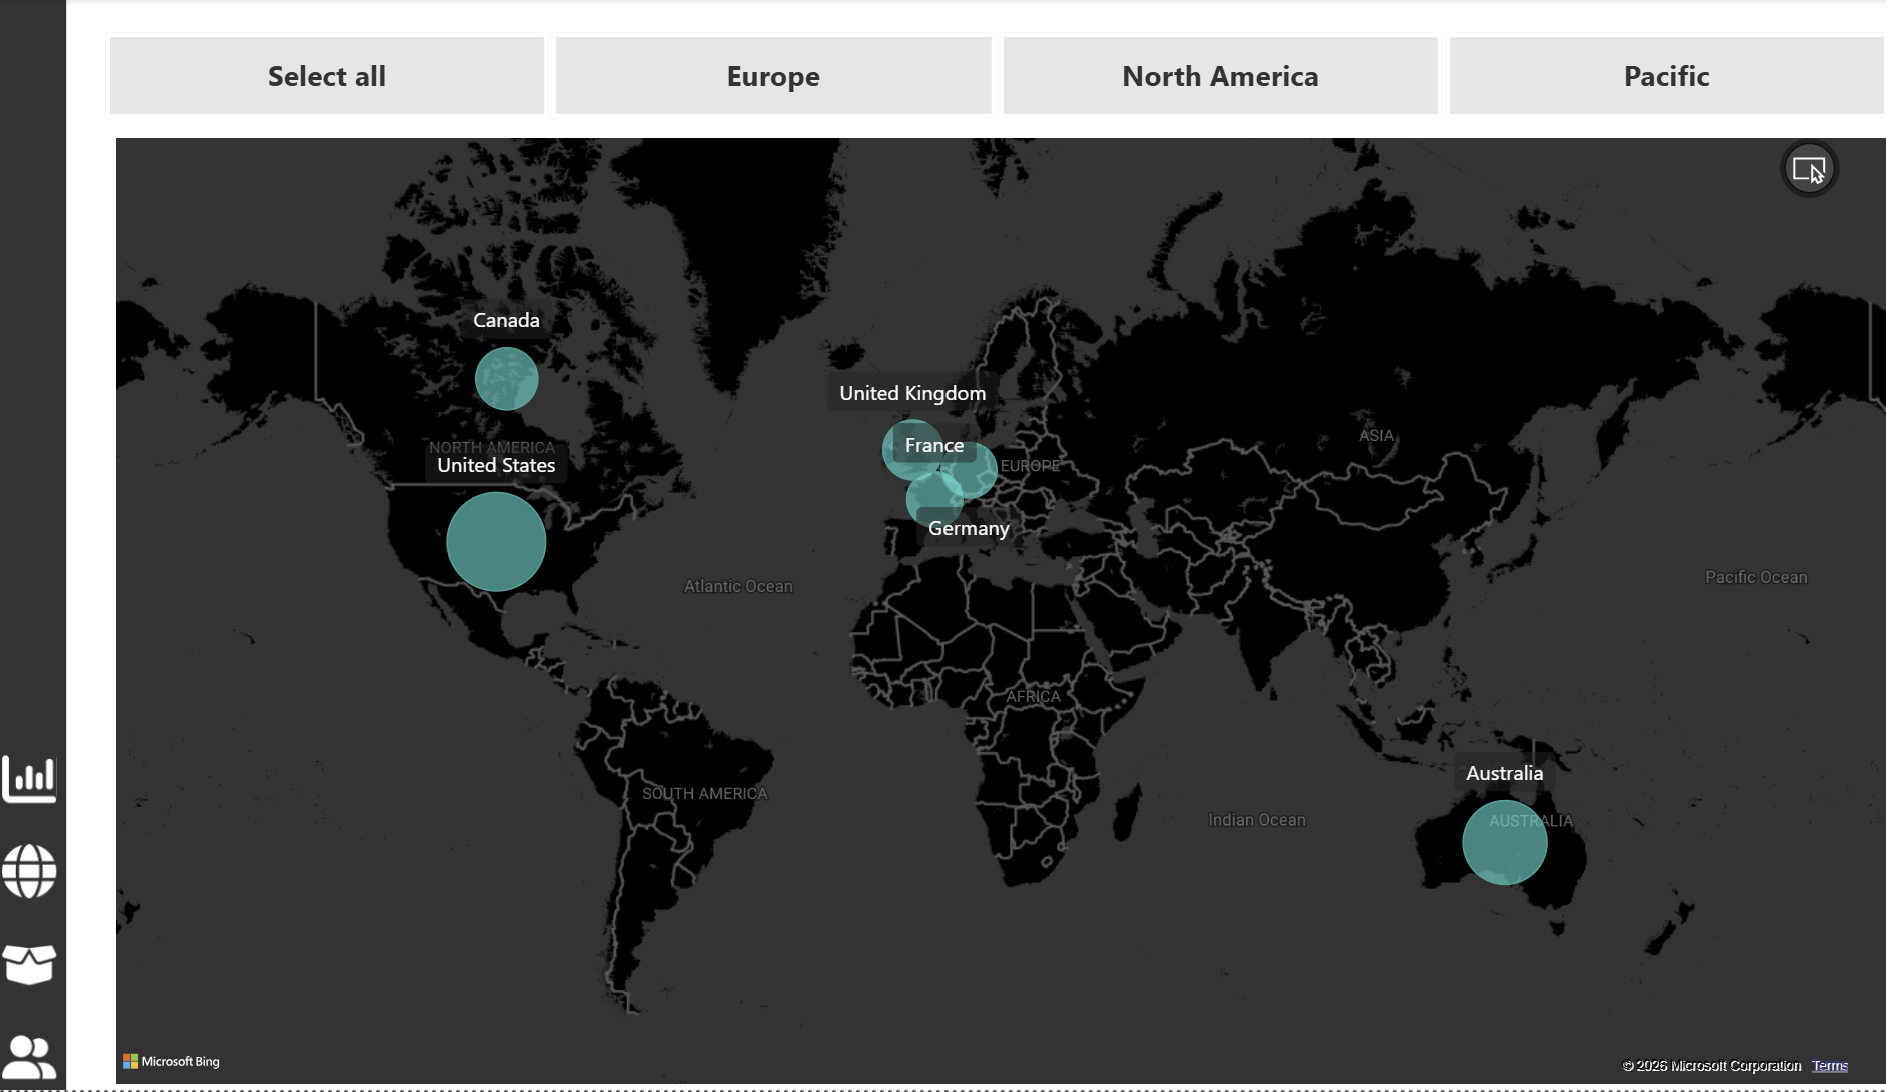

This screenshot's page, from the dashboard's own definition file:
{"tool":"powerbi","page":{"name":"Map","canvas":[1280,720],"ordinal":1},"visuals":[{"type":"map","fields":{"Category":["Territory Lookup.Country"],"Size":["Measure Table.Total Orders"]},"box":[73.7,86.4,1176.2,633.6],"z":0},{"type":"slicer","fields":{"Values":["Territory Lookup.Continent"]},"box":[46.1,16.1,1224.6,70.3],"z":1000},{"type":"shape","title":"Left Nav Background","box":[0,0,46.2,720],"z":2000},{"type":"actionButton","box":[0.6,492.5,46.2,43.8],"z":3000},{"type":"actionButton","box":[0.6,615,46.2,43.8],"z":4000},{"type":"actionButton","box":[0.6,676.2,46.2,43.8],"z":5000},{"type":"actionButton","box":[0.6,553.8,46.2,43.8],"z":6000}]}

Visuals, with their boxes in screenshot pixels (x1, y1, x2, y2):
map - Territory Lookup.Country x Measure Table.Total Orders: {"left": 106, "top": 130, "right": 1878, "bottom": 1085}
slicer - Territory Lookup.Continent: {"left": 65, "top": 24, "right": 1885, "bottom": 130}
"Left Nav Background" shape: {"left": 0, "top": 0, "right": 65, "bottom": 1085}
actionButton: {"left": 0, "top": 742, "right": 66, "bottom": 808}
actionButton: {"left": 0, "top": 926, "right": 66, "bottom": 992}
actionButton: {"left": 0, "top": 1019, "right": 66, "bottom": 1085}
actionButton: {"left": 0, "top": 834, "right": 66, "bottom": 900}
